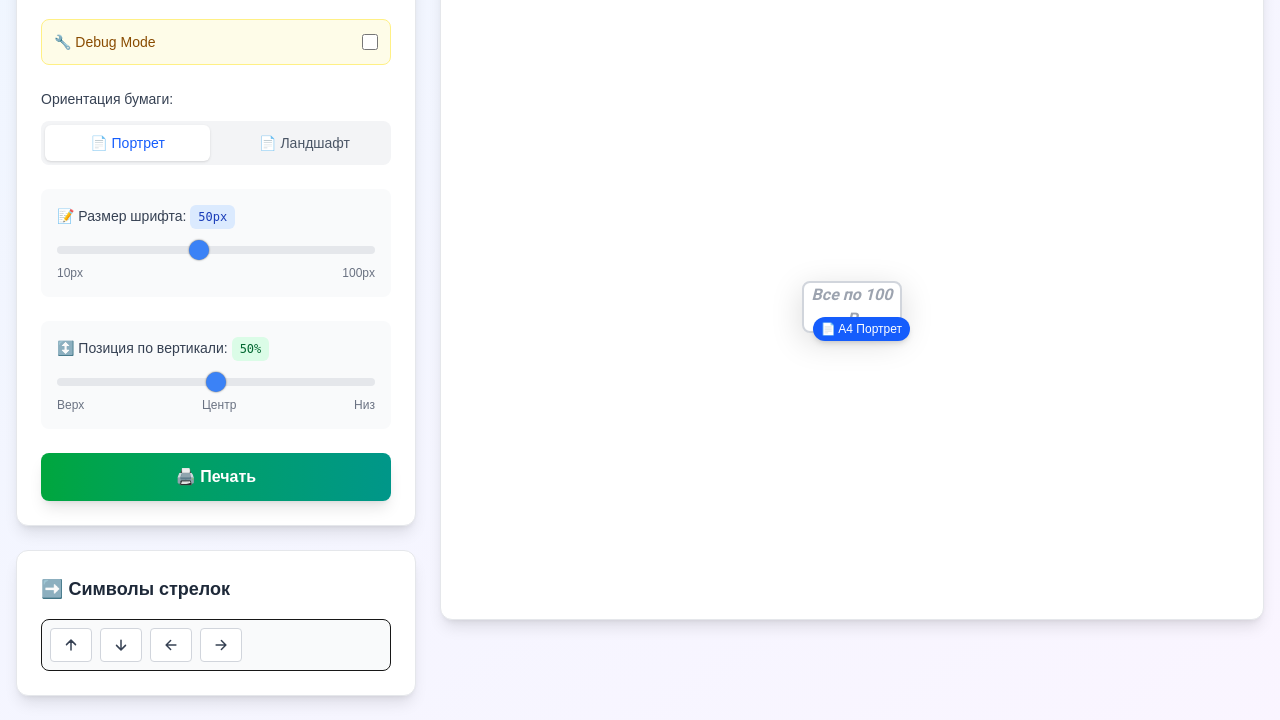
Test: ArrowToolbar Integration › maintains arrow symbols when user types additional content
This screenshot has width=1280, height=720.
(page scrolled)
Step 1. Click the button named "insert left arrow" → (171,645), box [150,628,192,662]
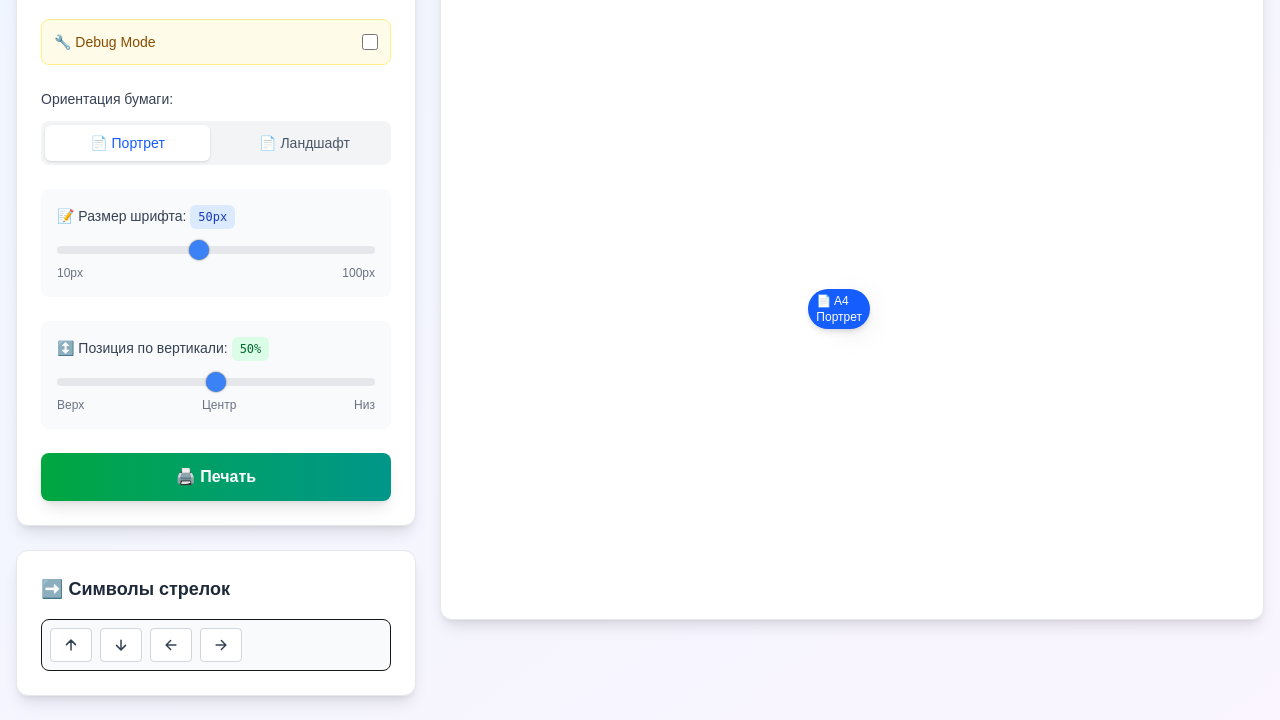
Check: the field reads "←", box [844,295,860,319]
Step 2. Click the button named "insert down arrow" → (121,645), box [100,628,142,662]
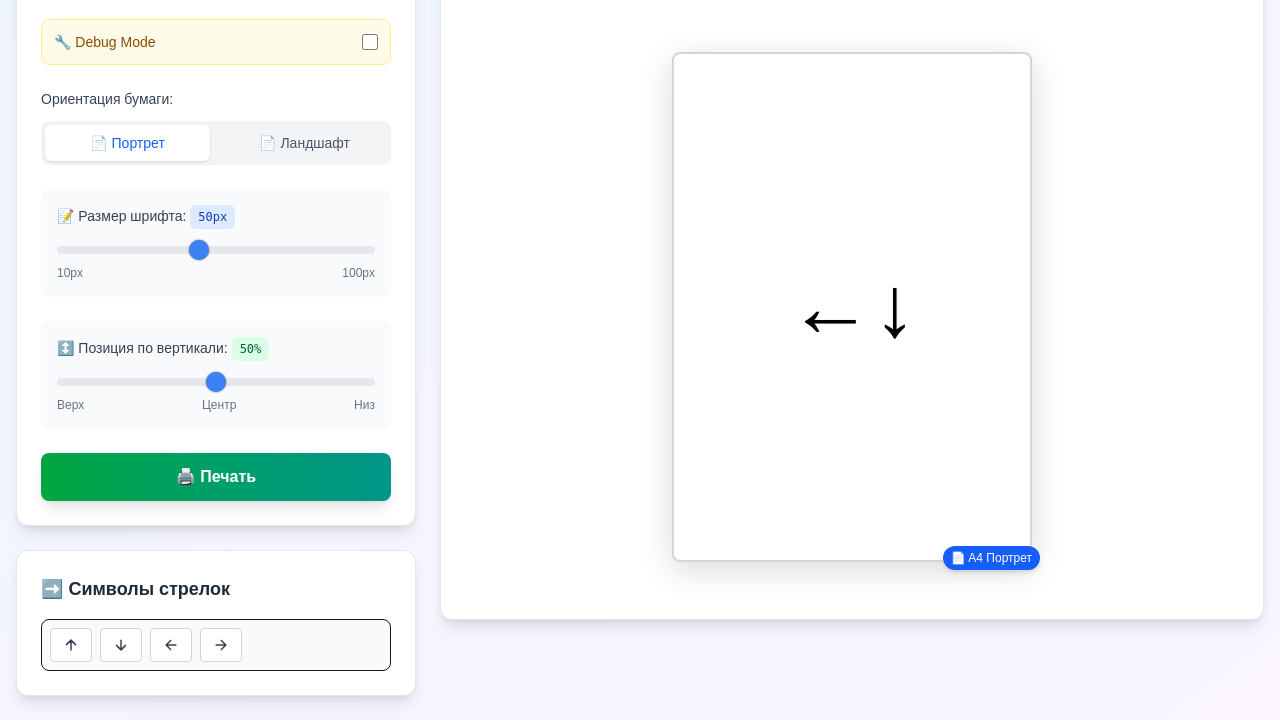
Check: the field reads "←↓", box [788,256,916,357]
